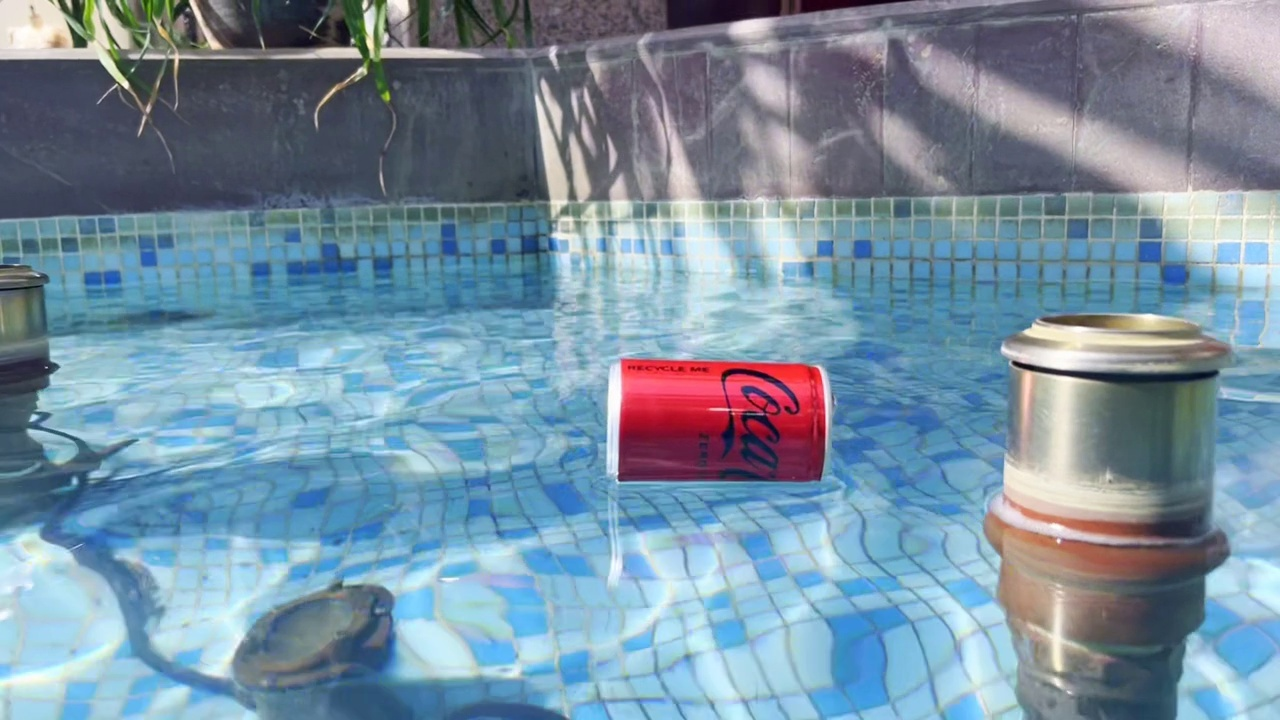debris: (596, 344, 832, 491)
